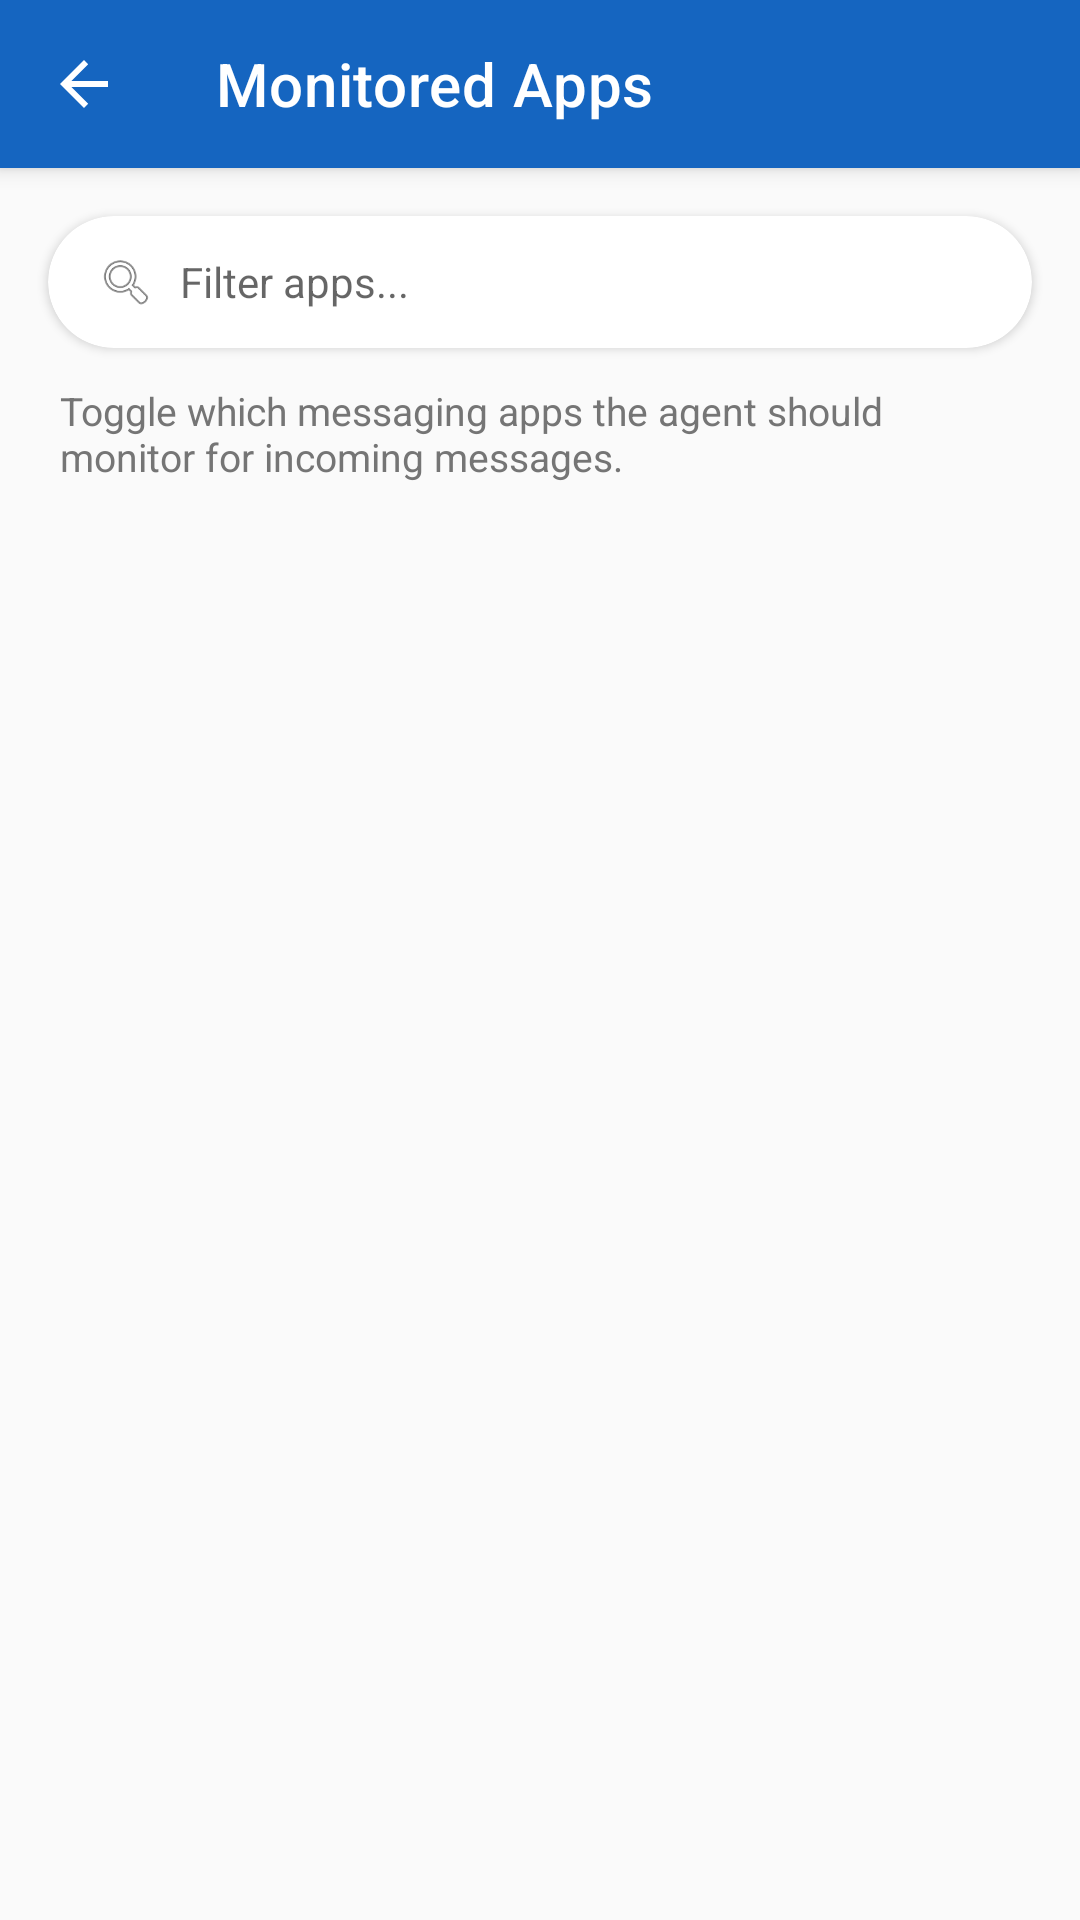

Icon bounding boxes for this 1080*1920 phone screenshot, format BBox(x1, y1, x2, y2):
Search apps: BBox(104, 260, 148, 305)
